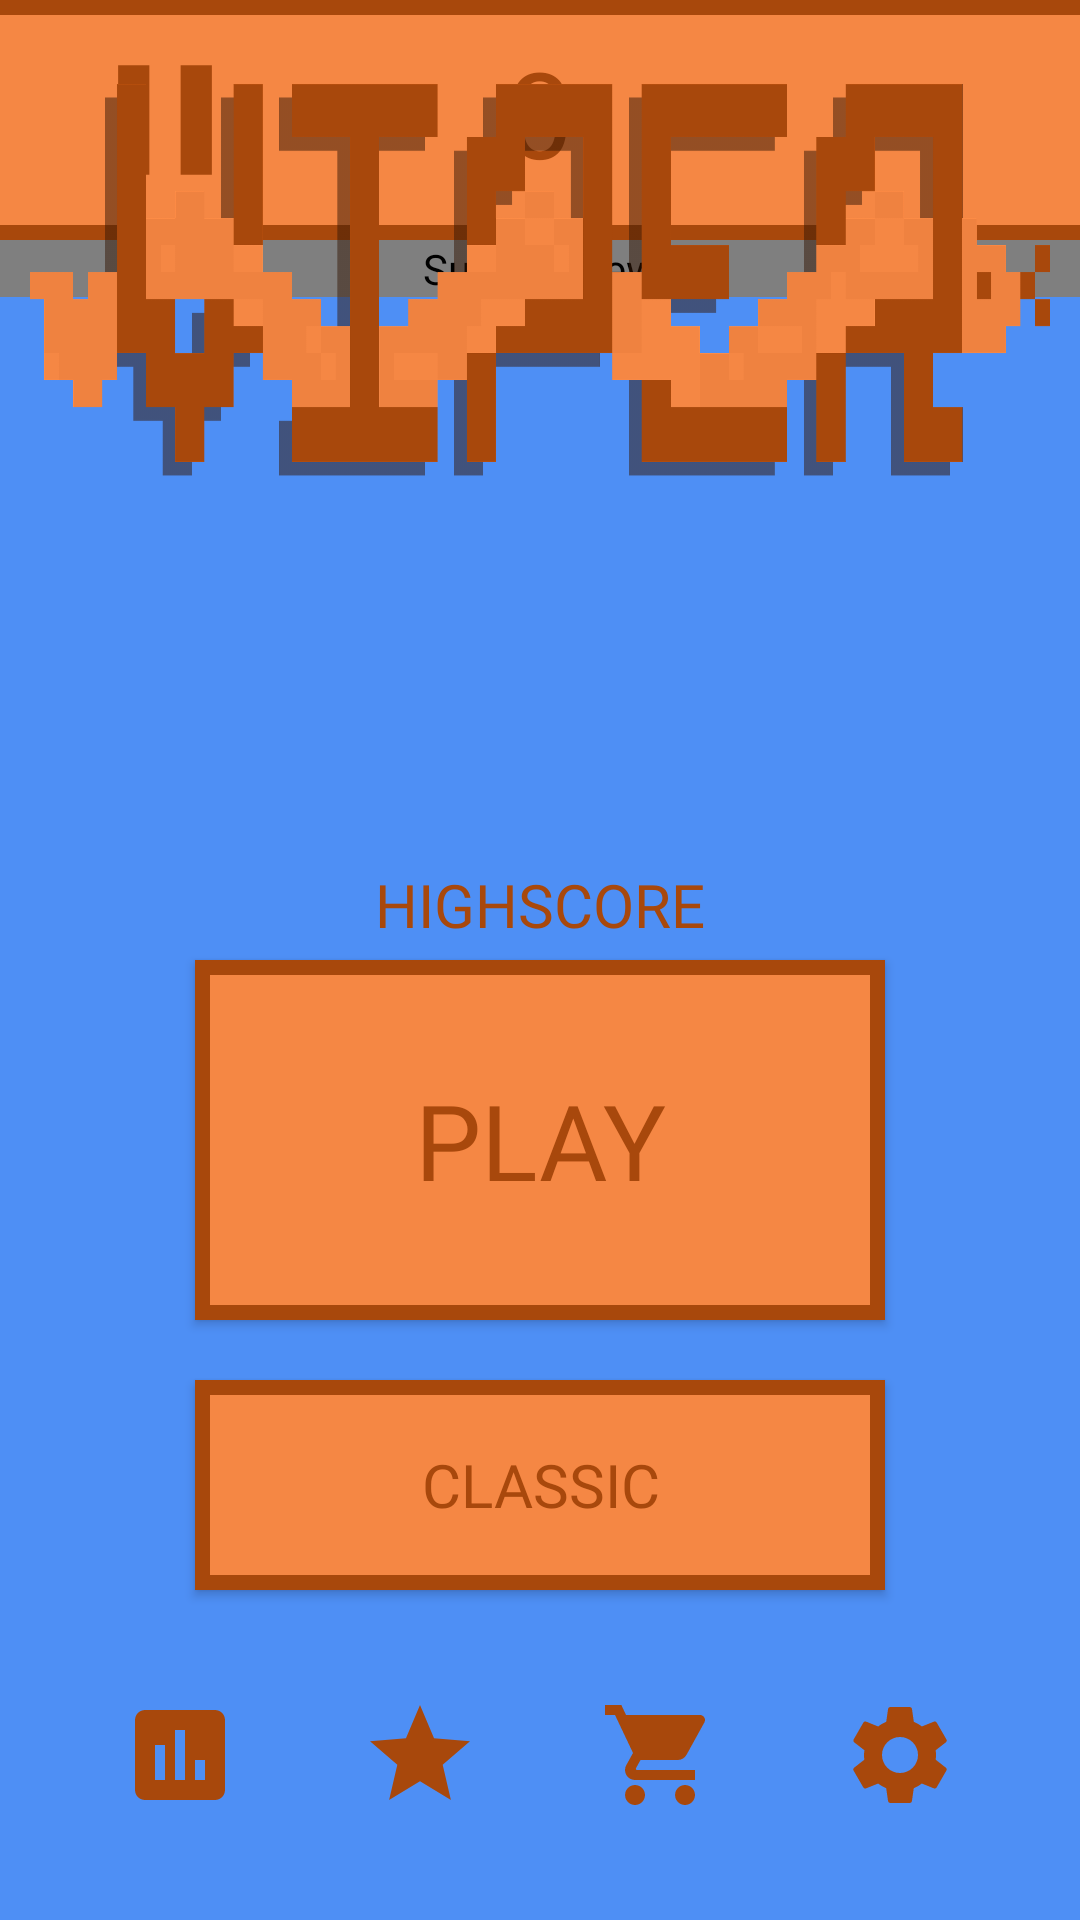

Point at icon controls on the screen. Image size 1080*1920, points as [x,y].
settings: [900,1755]
shop: [655,1755]
star: [420,1752]
stats: [180,1755]
